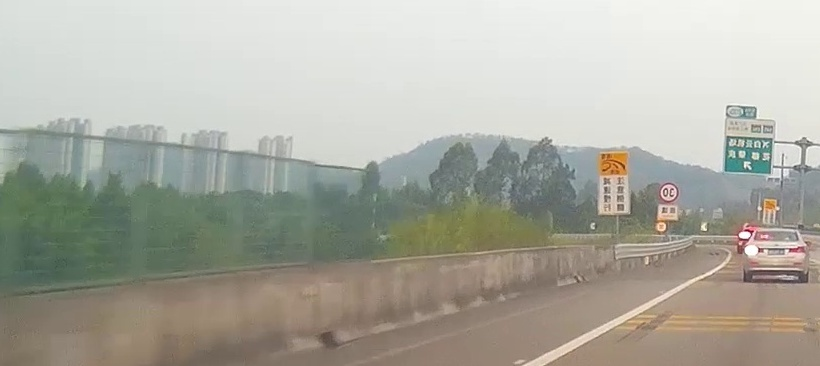L_light: (744, 245, 763, 253)
R_light: (789, 245, 805, 253)
T_light: (773, 230, 782, 232)
day-left: (742, 228, 808, 283)
